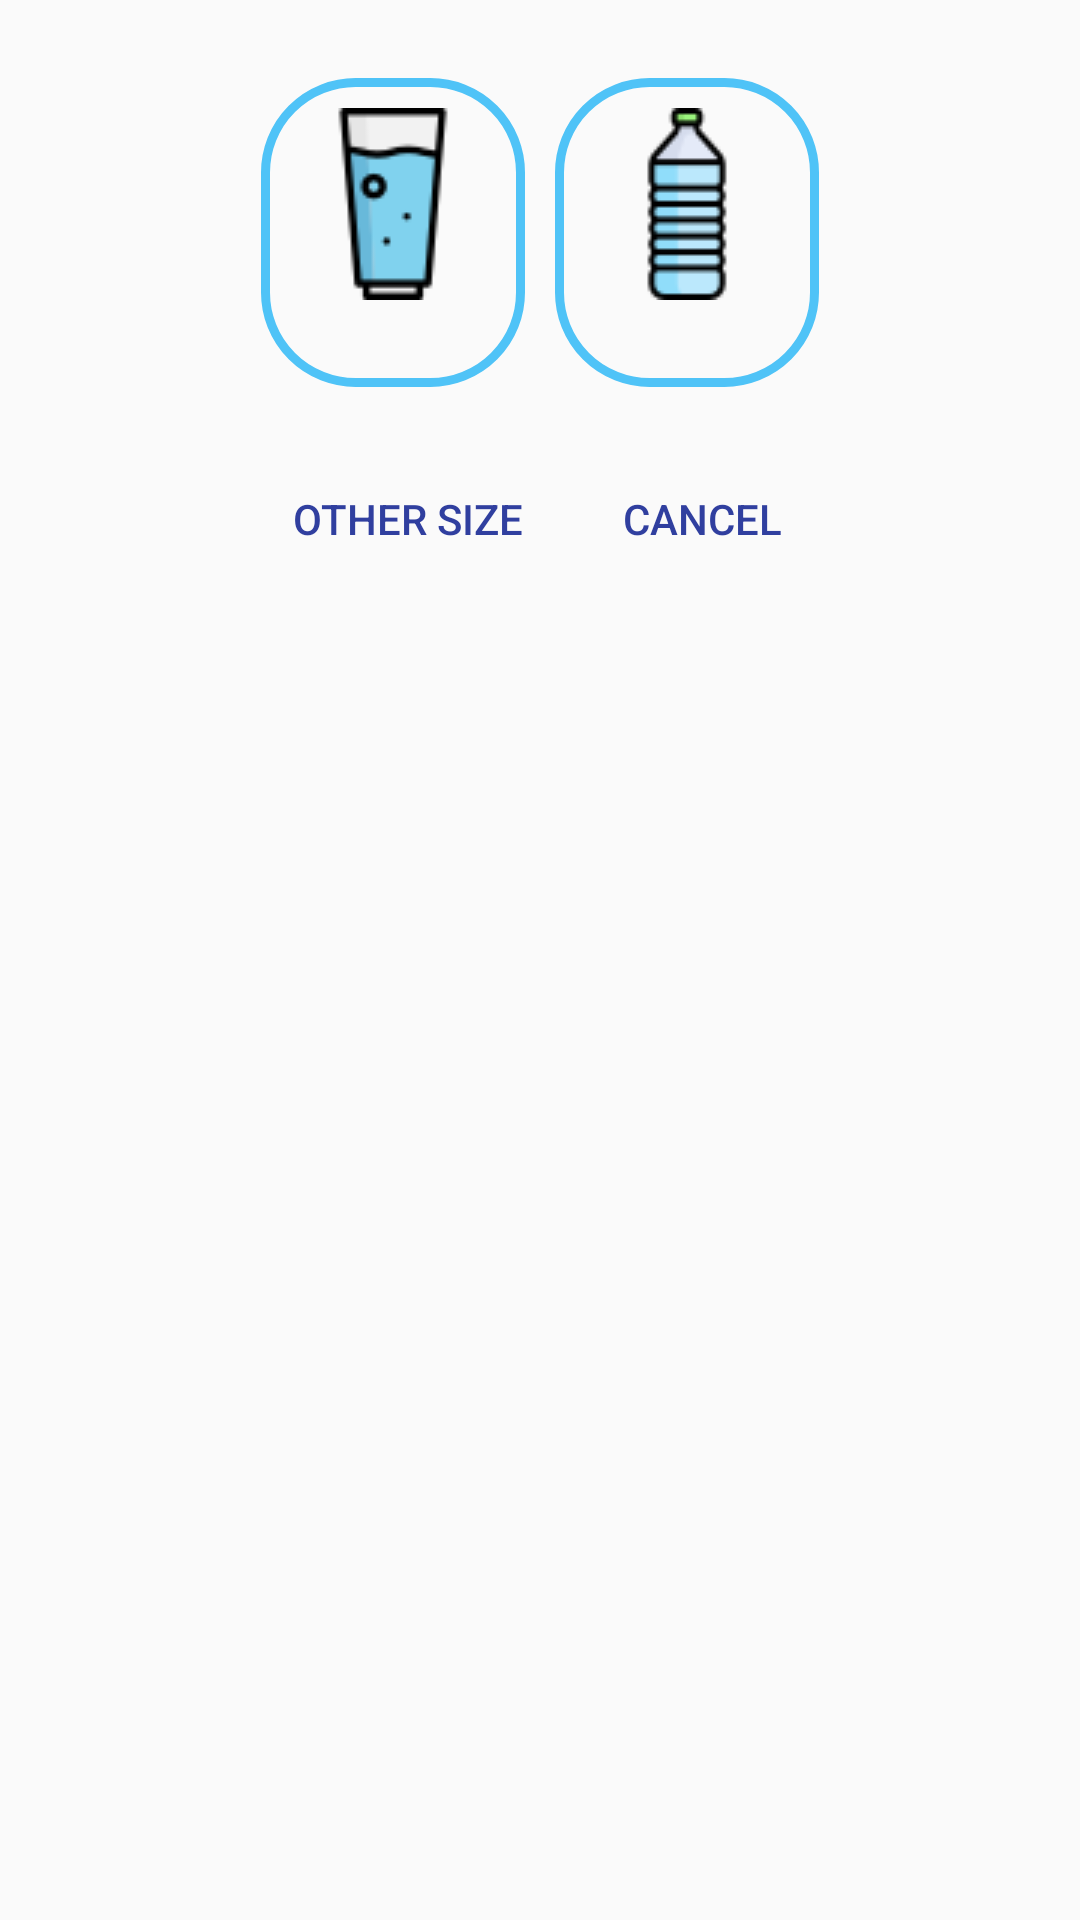

Point at icon controls on the screen. Image size 1080x1920, points as point (x, y).
drink backgorund: point (393, 232), point (687, 232)
